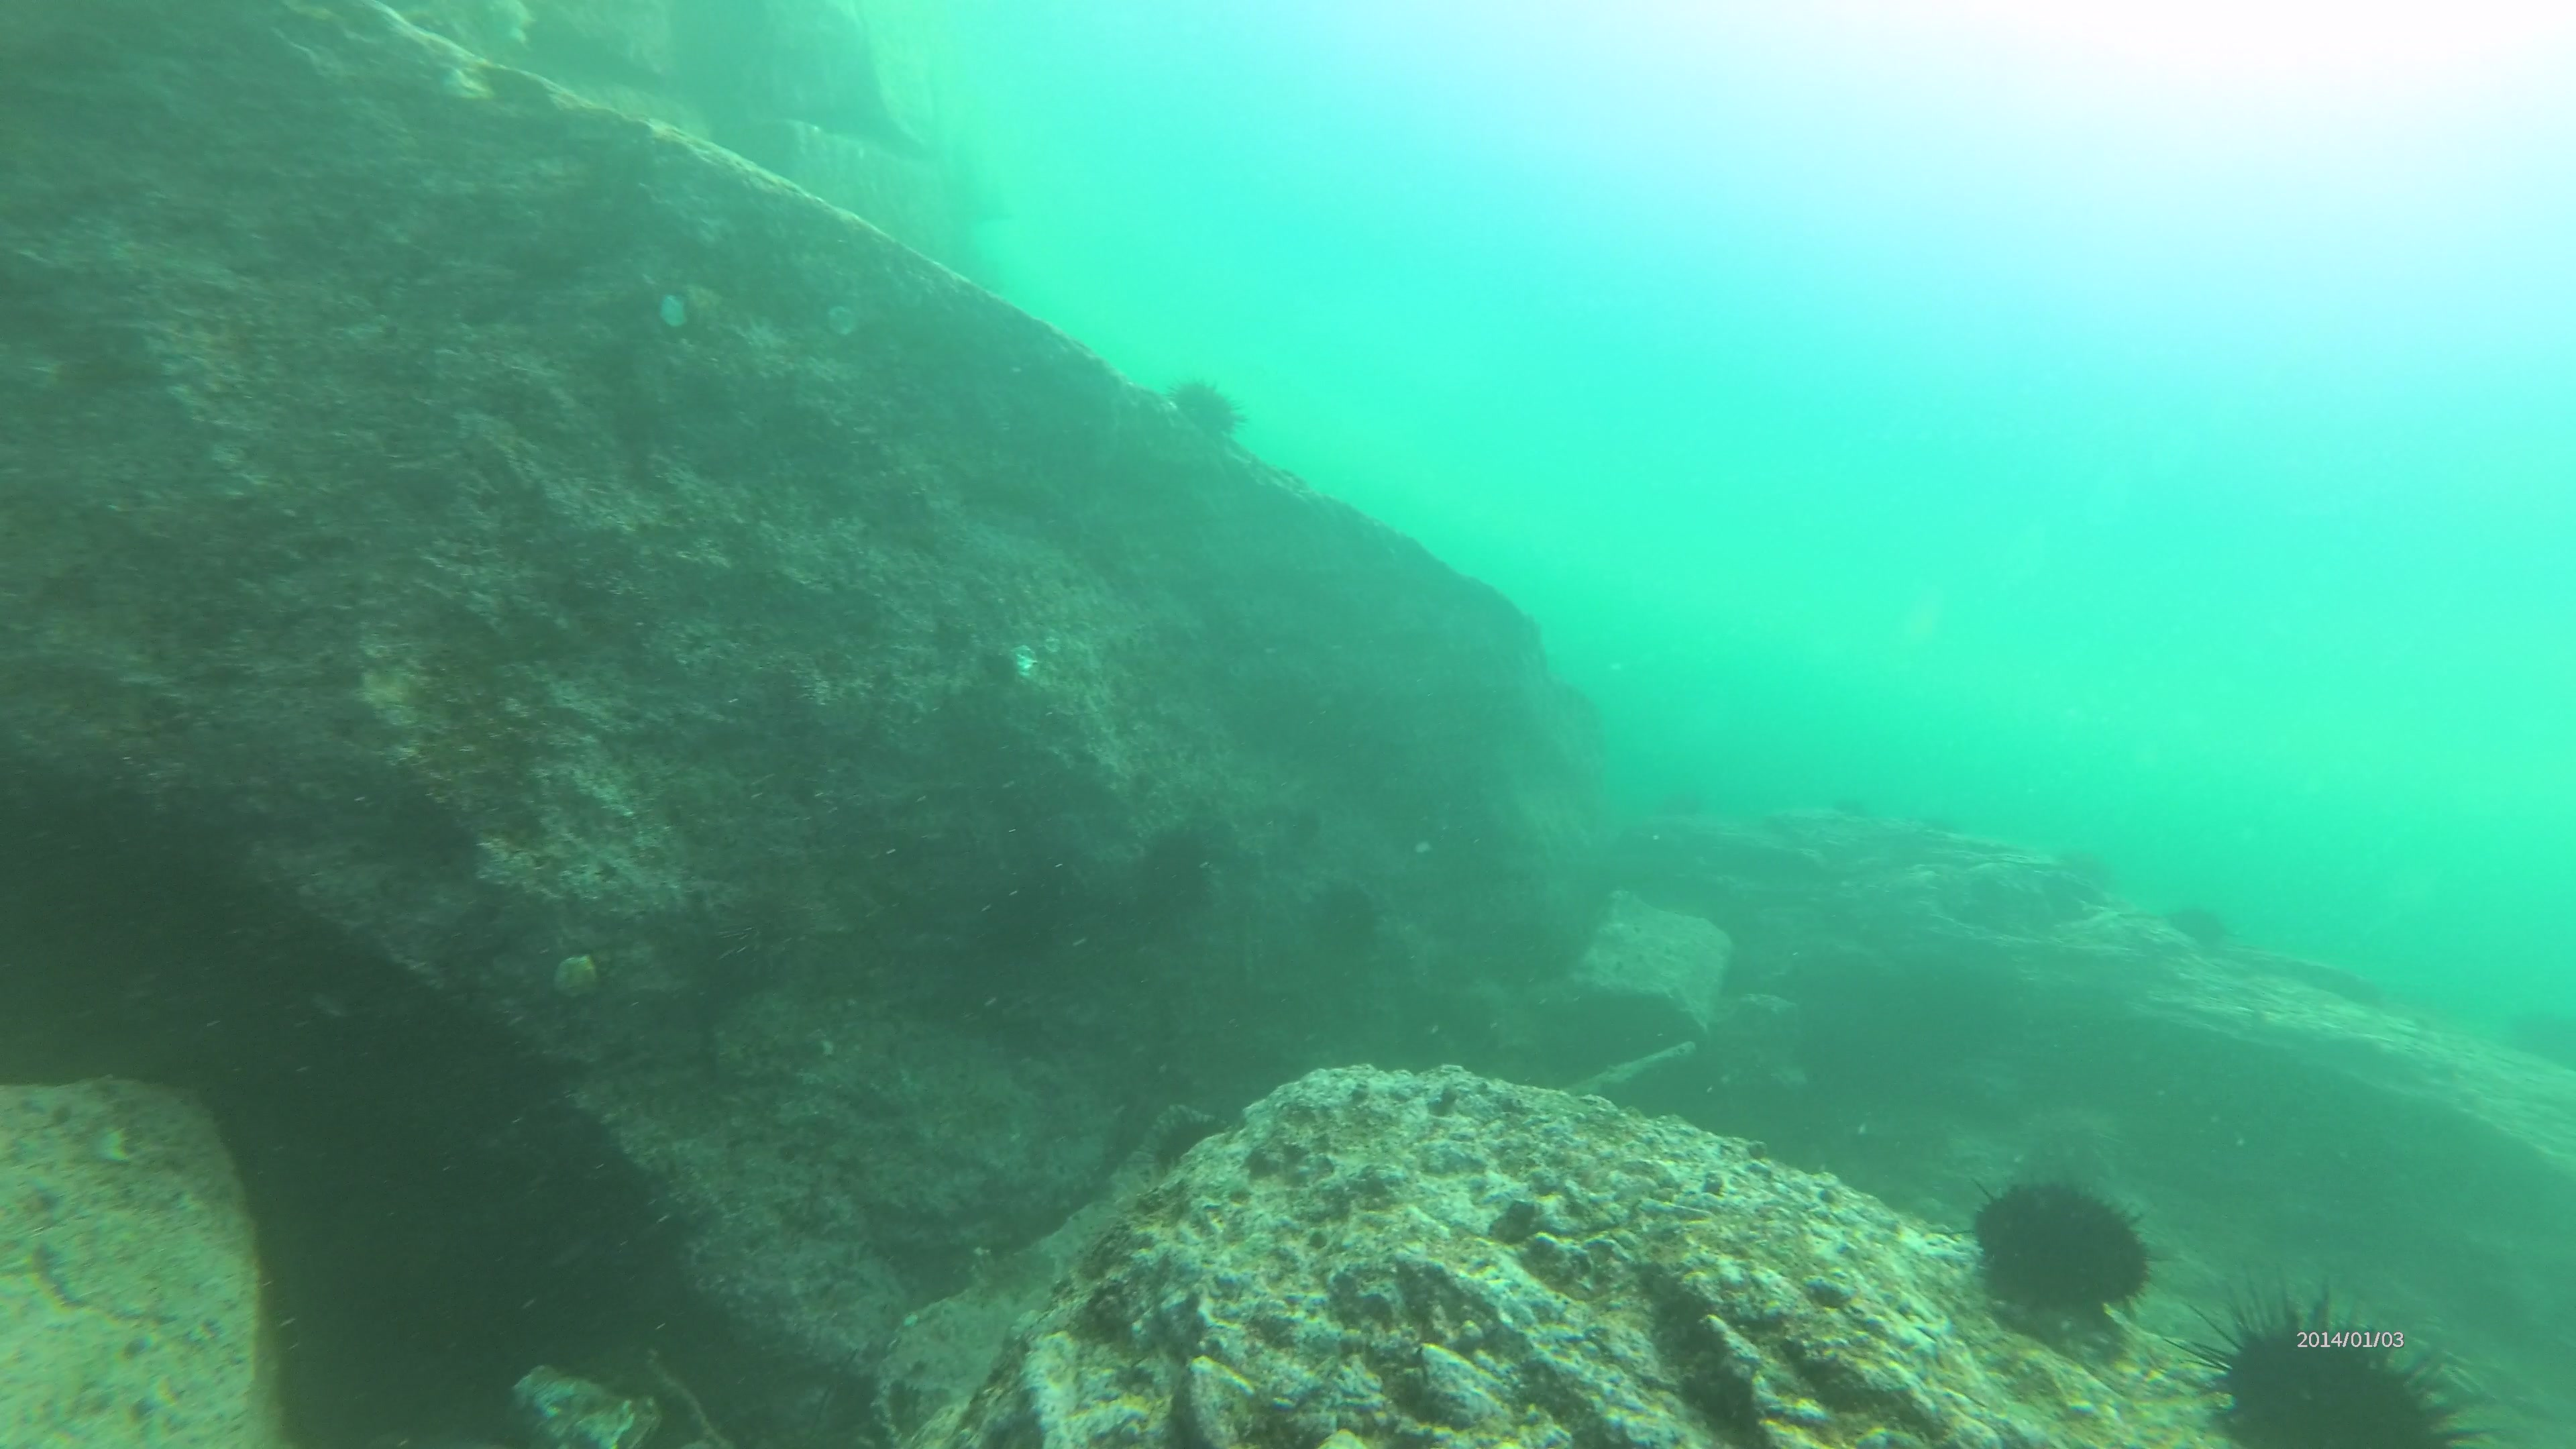echinus: (2180, 1269, 2493, 1449), (1957, 1162, 2174, 1320), (695, 904, 821, 994), (1141, 824, 1226, 916), (1297, 876, 1391, 950), (1168, 372, 1258, 446), (2059, 839, 2125, 893), (2166, 893, 2229, 948), (1654, 786, 1713, 828)
